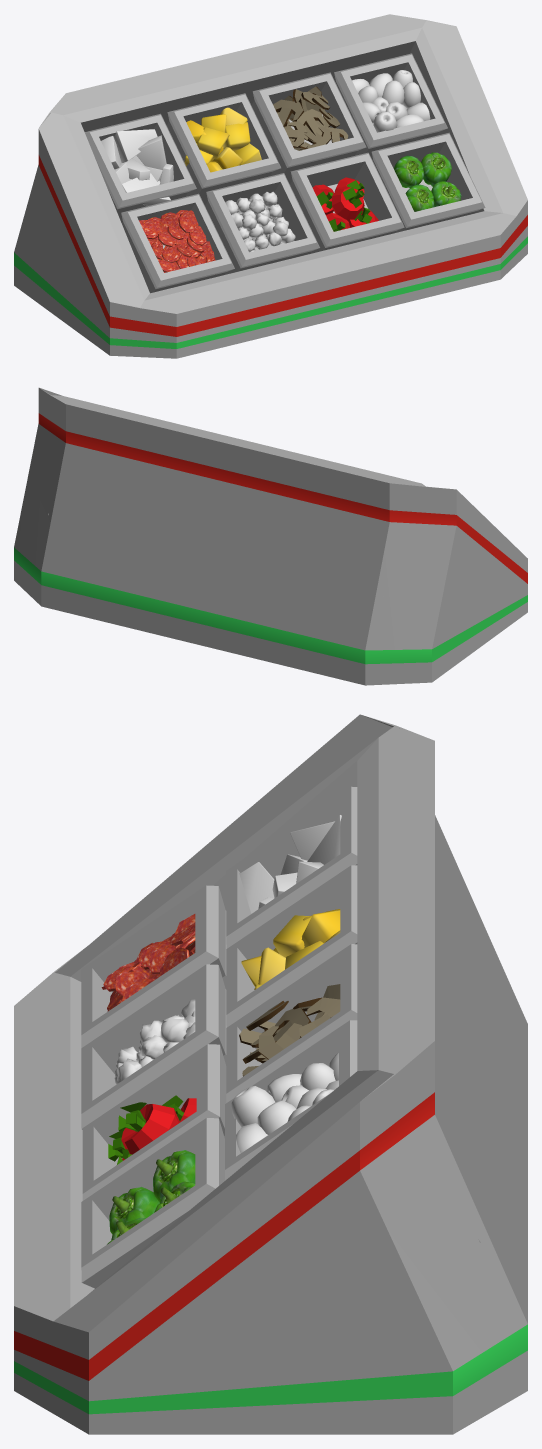
File: contWithToppings.fbx
3 views of the same model, one above another, from view 1: azimuth 30°, elevation 25°; view 2: azimuth 150°, elevation 25°; view 3: azimuth 270°, elevation 25° (orthographic). The views are drawn at different scales.
Visible parts, largest first — view 1: ToppingContainerHolder, TomatoContainer, MushroomContainer, SausageContainer, PineappleContainer, PepperContainer, PepperoniContainer, OliveContainer, CheeseContainer, Cheese.006, Sphere.005, 10165_BellPepper_v01_L3 (+12 smaller); view 2: ToppingContainerHolder; view 3: ToppingContainerHolder, SausageContainer, PepperContainer, PepperoniContainer, TomatoContainer, PineappleContainer, CheeseContainer, MushroomContainer, OliveContainer, Sphere.005, 10165_BellPepper_v01_L3.003, 10165_BellPepper_v01_L3.002 (+7 smaller).
Boxes of the visible parts, x1,y1,x2,y2 form: ToppingContainerHolder: [14, 14, 527, 358]; TomatoContainer: [290, 152, 404, 253]; MushroomContainer: [251, 72, 366, 184]; SausageContainer: [205, 173, 319, 274]; PineappleContainer: [166, 93, 280, 205]; PepperContainer: [371, 132, 485, 232]; PepperoniContainer: [121, 193, 234, 293]; OliveContainer: [334, 53, 447, 160]; CheeseContainer: [85, 113, 196, 222]; Cheese.006: [113, 129, 157, 162]; Sphere.005: [332, 186, 364, 219]; 10165_BellPepper_v01_L3: [421, 152, 451, 186]; ToppingContainerHolder: [14, 387, 527, 685]; ToppingContainerHolder: [14, 714, 527, 1434]; SausageContainer: [81, 964, 226, 1129]; PepperContainer: [81, 1118, 224, 1288]; PepperoniContainer: [81, 885, 226, 1047]; TomatoContainer: [82, 1044, 226, 1200]; PineappleContainer: [226, 865, 357, 1027]; CheeseContainer: [226, 786, 357, 948]; MushroomContainer: [226, 944, 357, 1102]; OliveContainer: [225, 1020, 357, 1180]; Sphere.005: [118, 1102, 179, 1154]; 10165_BellPepper_v01_L3.003: [153, 1150, 195, 1202]; 10165_BellPepper_v01_L3.002: [109, 1186, 159, 1234].
Size of the model in its own units: 1.75 by 0.7521 by 0.9832.
